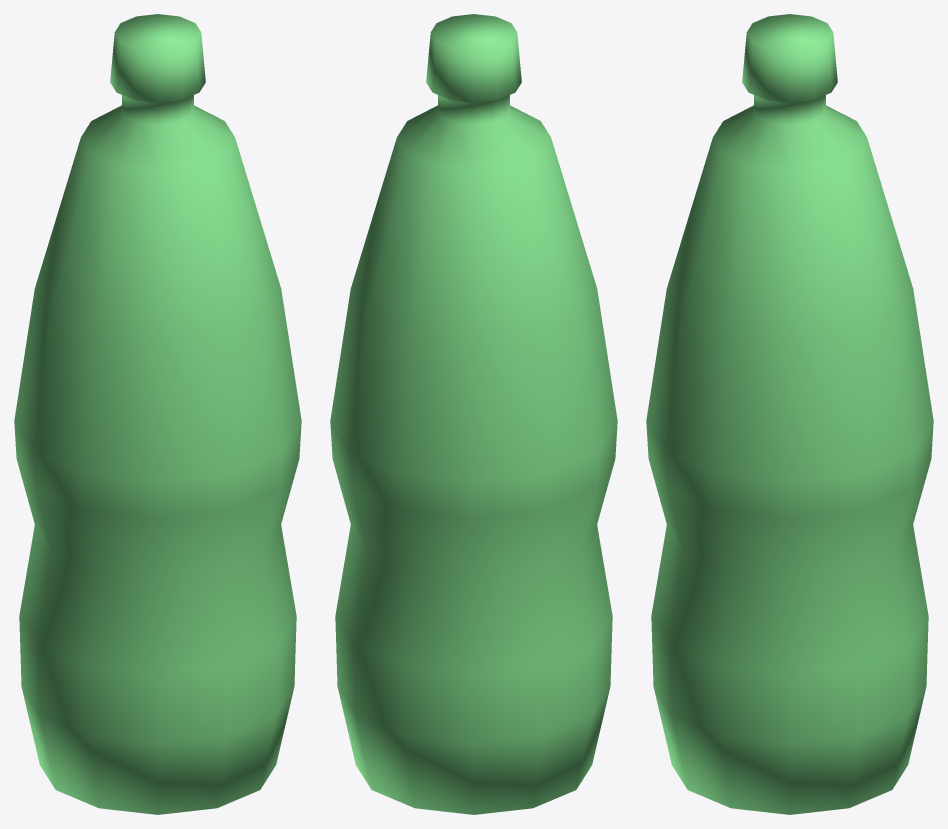
File: olio_frittura.fbx
3 renders of one model, left to right at view 1: azimuth 30°, elevation 25°; view 2: azimuth 150°, elevation 25°; view 3: azimuth 270°, elevation 25°, orthographic.
Visible parts, largest first — view 1: olio_frittura; view 2: olio_frittura; view 3: olio_frittura.
Boxes of the visible parts, box(x1,y1,x2,y2) form: olio_frittura: box(14, 14, 301, 814); olio_frittura: box(330, 14, 617, 814); olio_frittura: box(646, 14, 933, 814).
Bounding box in the file's own units: 72.59 × 204 × 72.59.
